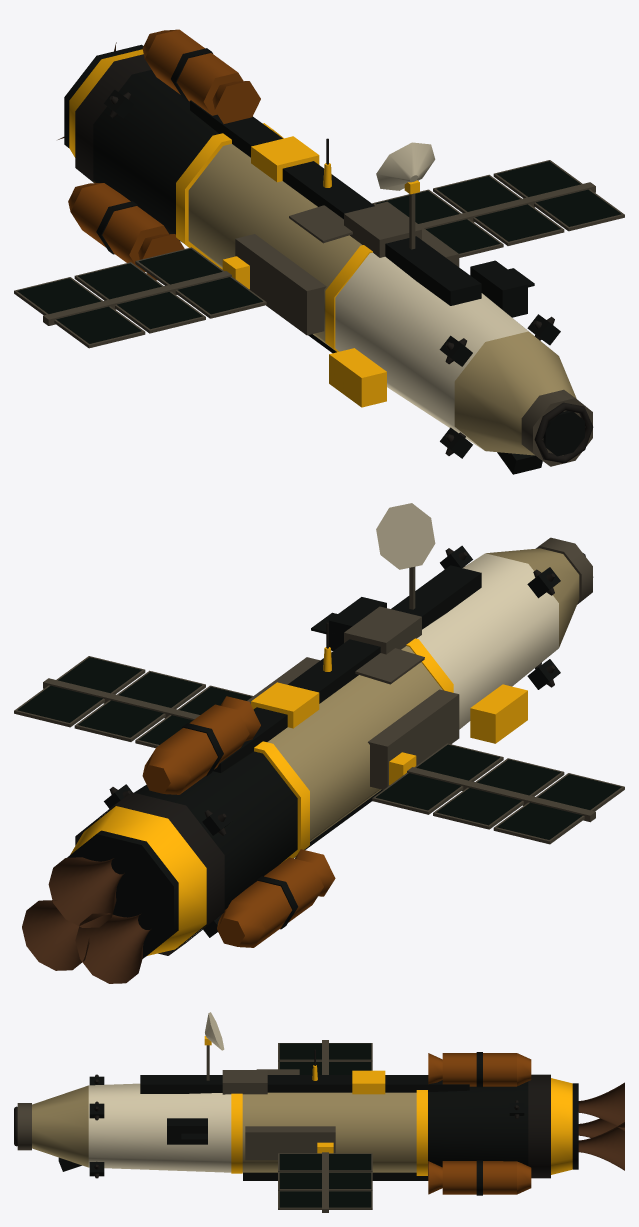
The model's file is sp_prototype.obj.
3 renders of one model, top to bottom at view 1: azimuth 30°, elevation 25°; view 2: azimuth 150°, elevation 25°; view 3: azimuth 270°, elevation 25°, orthographic. The views are drawn at different scales.
Visible parts, largest first — view 1: hull_fwd, hull_mid, hull_aft, nose_cone, spine, pallet_l, tank_1, tank_3, panel_cells_2, panel_cells_1.001, panel_cells_1, panel_cells_0.001 (+27 smaller); view 2: hull_fwd, hull_mid, hull_aft, spine, thrust_plate, aft_skirt, pallet_l, bell_1, bell_2, scorch_plate, tank_3, panel_cells_1 (+28 smaller); view 3: hull_fwd, hull_mid, hull_aft, spine, nose_cone, pallet_r, scorch_plate, tank_2, tank_1, aft_skirt, panel_cells_2, panel_cells_0 (+24 smaller).
Part boxes in pixels (left/top/right/bottom): hull_fwd: left=335, top=252, right=548, bottom=449; hull_mid: left=188, top=144, right=362, bottom=350; hull_aft: left=93, top=70, right=218, bottom=241; nose_cone: left=454, top=331, right=576, bottom=455; spine: left=190, top=100, right=481, bottom=305; pallet_l: left=235, top=234, right=326, bottom=335; tank_1: left=145, top=29, right=243, bottom=115; tank_3: left=70, top=183, right=168, bottom=271; panel_cells_2: left=497, top=161, right=621, bottom=226; panel_cells_1.001: left=78, top=263, right=202, bottom=329; panel_cells_1: left=436, top=176, right=560, bottom=241; panel_cells_0.001: left=139, top=248, right=262, bottom=314; hull_fwd: left=417, top=553, right=558, bottom=729; hull_mid: left=267, top=646, right=442, bottom=841; hull_aft: left=83, top=751, right=297, bottom=949; spine: left=213, top=565, right=481, bottom=772; thrust_plate: left=67, top=830, right=178, bottom=958; aft_skirt: left=70, top=806, right=206, bottom=955; pallet_l: left=368, top=689, right=459, bottom=789; bell_1: left=48, top=857, right=124, bottom=927; bell_2: left=75, top=913, right=151, bottom=983; scorch_plate: left=75, top=792, right=224, bottom=955; tank_3: left=232, top=857, right=323, bottom=947; panel_cells_1: left=78, top=672, right=202, bottom=737; hull_fwd: left=88, top=1083, right=231, bottom=1172; hull_mid: left=242, top=1092, right=416, bottom=1172; hull_aft: left=428, top=1081, right=528, bottom=1172; spine: left=140, top=1075, right=469, bottom=1093; nose_cone: left=32, top=1085, right=88, bottom=1167; pallet_r: left=245, top=1126, right=335, bottom=1160; scorch_plate: left=528, top=1074, right=550, bottom=1178; tank_2: left=442, top=1161, right=516, bottom=1194; tank_1: left=442, top=1053, right=516, bottom=1086; aft_skirt: left=551, top=1078, right=572, bottom=1174; panel_cells_2: left=279, top=1191, right=371, bottom=1207; panel_cells_0: left=279, top=1154, right=371, bottom=1170.
Bounding box in the file's own units: 19.4 × 8.88 × 29.68.
